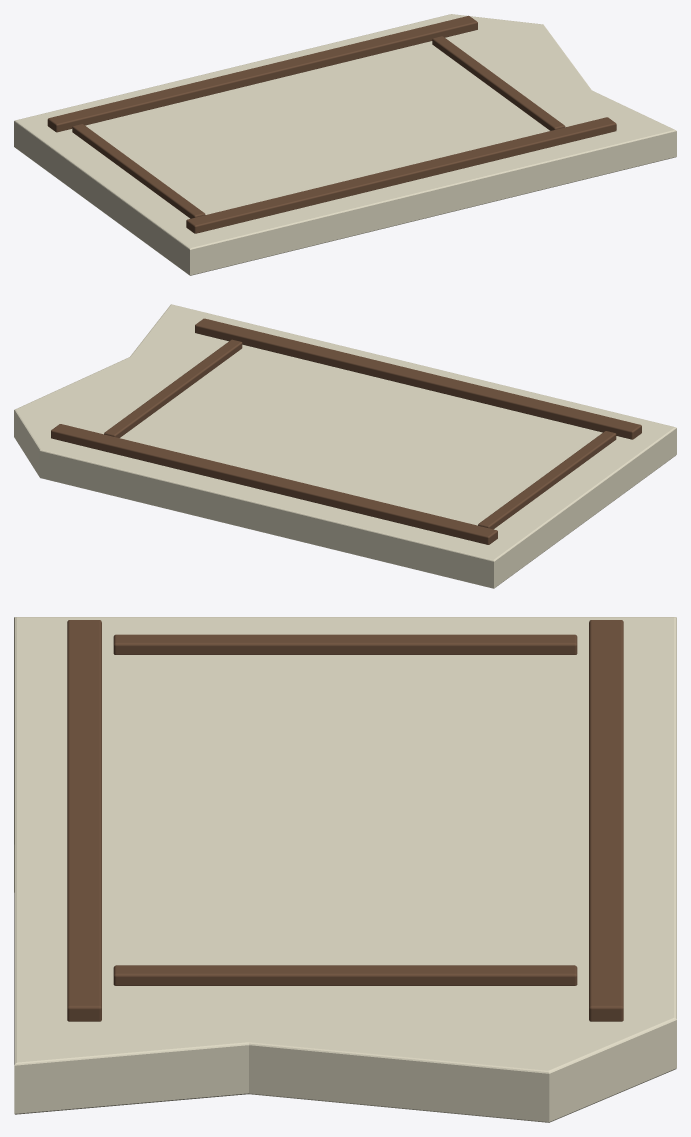
The model's file is abandoned-telephone-exchange-fallen-ceiling-panel-d672343a__32020.glb.
The picture shows the model from 3 angles, top to bottom: view 1: azimuth 30°, elevation 25°; view 2: azimuth 150°, elevation 25°; view 3: azimuth 270°, elevation 25°; orthographic projection. The views are drawn at different scales.
Parts seen in each view (by area): view 1: fallen-ceiling-panel; view 2: fallen-ceiling-panel; view 3: fallen-ceiling-panel.
Boxes of the visible parts, box(x1,y1,x2,y2) form: fallen-ceiling-panel: box(14, 14, 676, 275); fallen-ceiling-panel: box(14, 304, 676, 588); fallen-ceiling-panel: box(14, 617, 676, 1122).
Bounding box in the file's own units: 1.12 × 0.076 × 0.6861.
